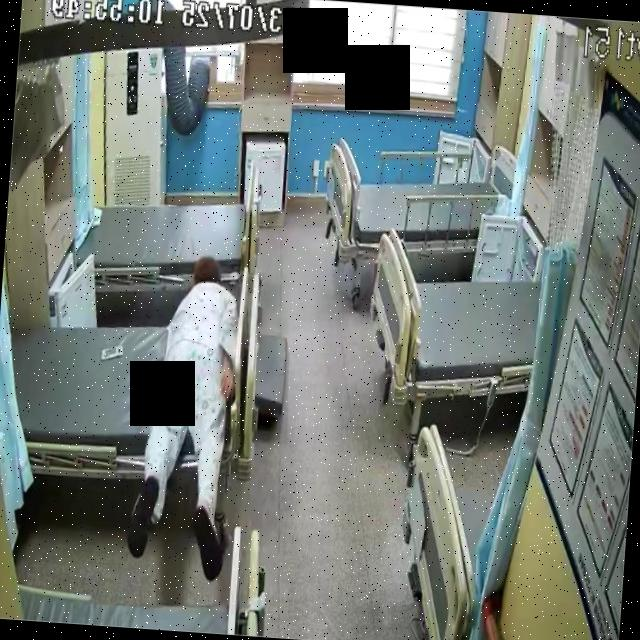bed: (0, 305, 243, 495), (360, 226, 544, 415), (324, 134, 517, 268), (72, 166, 261, 300)
danger: (126, 250, 252, 578)
patient: (125, 250, 252, 581)
